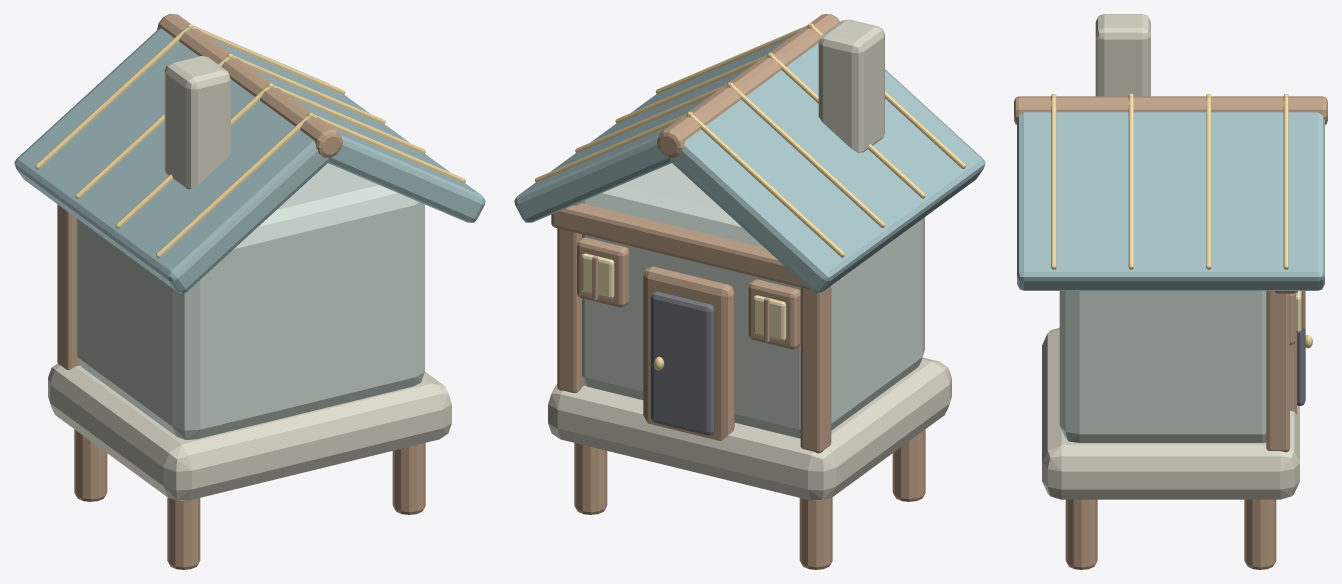
The model's file is stilt_house.glb.
3 views of the same model, side by side, from view 1: azimuth 30°, elevation 25°; view 2: azimuth 150°, elevation 25°; view 3: azimuth 270°, elevation 25° (orthographic). The views are drawn at different scales.
Visible parts, largest first — view 1: Sculpt__Fen plaster, Sculpt__Roof stilt_house, Sculpt__Limestone, Sculpt__Honey oak, Sculpt__Hammered brass; view 2: Sculpt__Roof stilt_house, Sculpt__Honey oak, Sculpt__Fen plaster, Sculpt__Limestone, Sculpt__Leather and sockets, Sculpt__Hammered brass, Sculpt__Lantern glass; view 3: Sculpt__Roof stilt_house, Sculpt__Fen plaster, Sculpt__Limestone, Sculpt__Honey oak, Sculpt__Hammered brass, Sculpt__Leather and sockets.
Boxes of the visible parts, box(x1,y1,x2,y2) form: Sculpt__Fen plaster: box(76, 163, 424, 439); Sculpt__Roof stilt_house: box(14, 26, 485, 293); Sculpt__Limestone: box(48, 56, 451, 500); Sculpt__Honey oak: box(57, 14, 425, 569); Sculpt__Hammered brass: box(35, 24, 465, 258); Sculpt__Roof stilt_house: box(514, 38, 985, 293); Sculpt__Honey oak: box(551, 14, 925, 569); Sculpt__Fen plaster: box(582, 163, 924, 438); Sculpt__Limestone: box(548, 19, 951, 500); Sculpt__Leather and sockets: box(651, 291, 714, 435); Sculpt__Hammered brass: box(535, 23, 965, 370); Sculpt__Lantern glass: box(581, 253, 786, 340); Sculpt__Roof stilt_house: box(1017, 112, 1324, 290); Sculpt__Fen plaster: box(1059, 291, 1266, 442); Sculpt__Limestone: box(1042, 14, 1299, 499); Sculpt__Honey oak: box(1014, 96, 1327, 569); Sculpt__Hammered brass: box(1051, 93, 1312, 348); Sculpt__Leather and sockets: box(1297, 329, 1305, 405).
Bounding box in the file's own units: 1.77 × 2.53 × 1.58.
